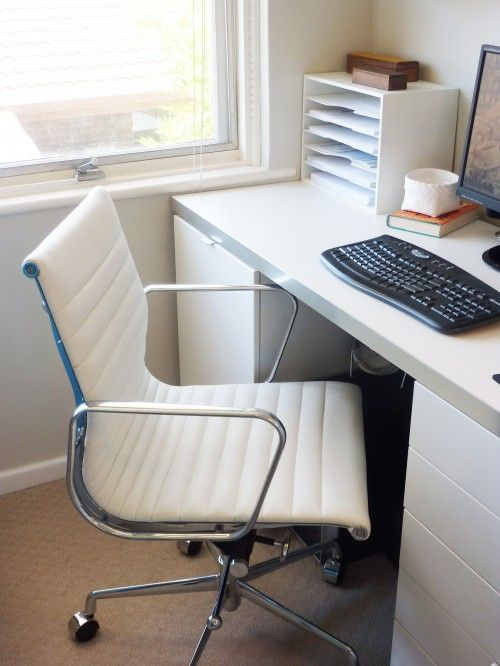chairs: (16, 185, 373, 666)
